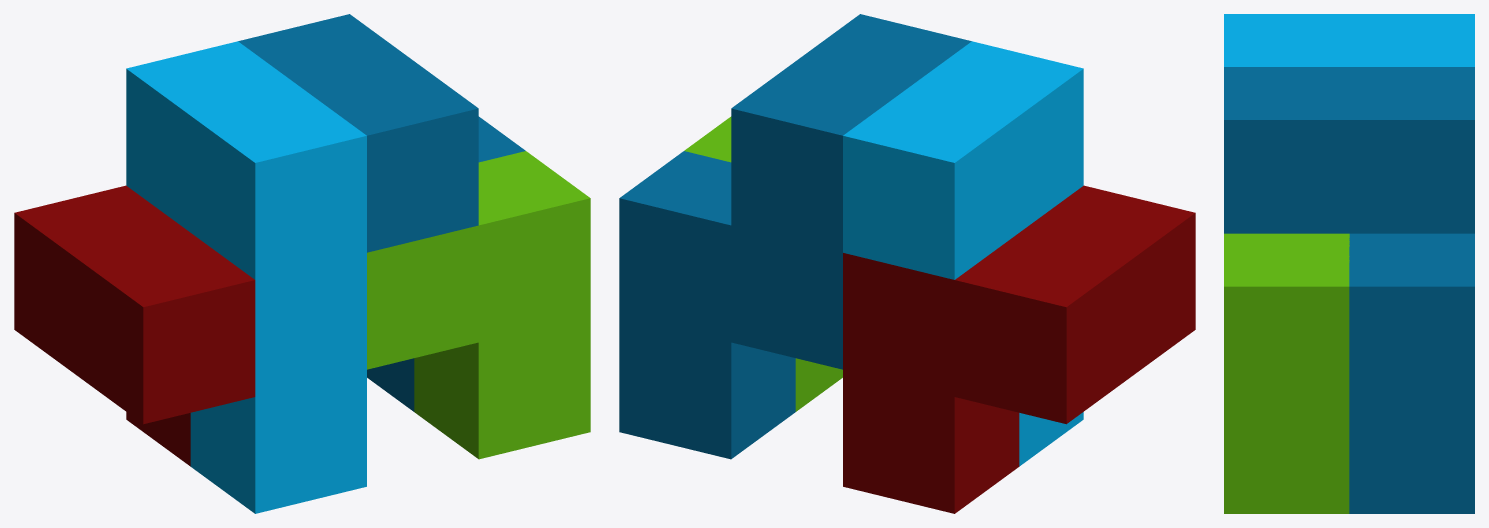
3 views of the same model, side by side, from view 1: azimuth 30°, elevation 25°; view 2: azimuth 150°, elevation 25°; view 3: azimuth 270°, elevation 25° (orthographic). The views are drawn at different scales.
Parts seen in each view (by area): view 1: mergedBlocks(Clone); view 2: mergedBlocks(Clone); view 3: mergedBlocks(Clone).
Boxes of the visible parts, left/top/right/bottom form: mergedBlocks(Clone): left=14, top=14, right=590, bottom=513; mergedBlocks(Clone): left=619, top=14, right=1195, bottom=513; mergedBlocks(Clone): left=1224, top=14, right=1474, bottom=513.
Bounding box in the file's own units: 4 × 3 × 2.
4 materials, 4 textured.
